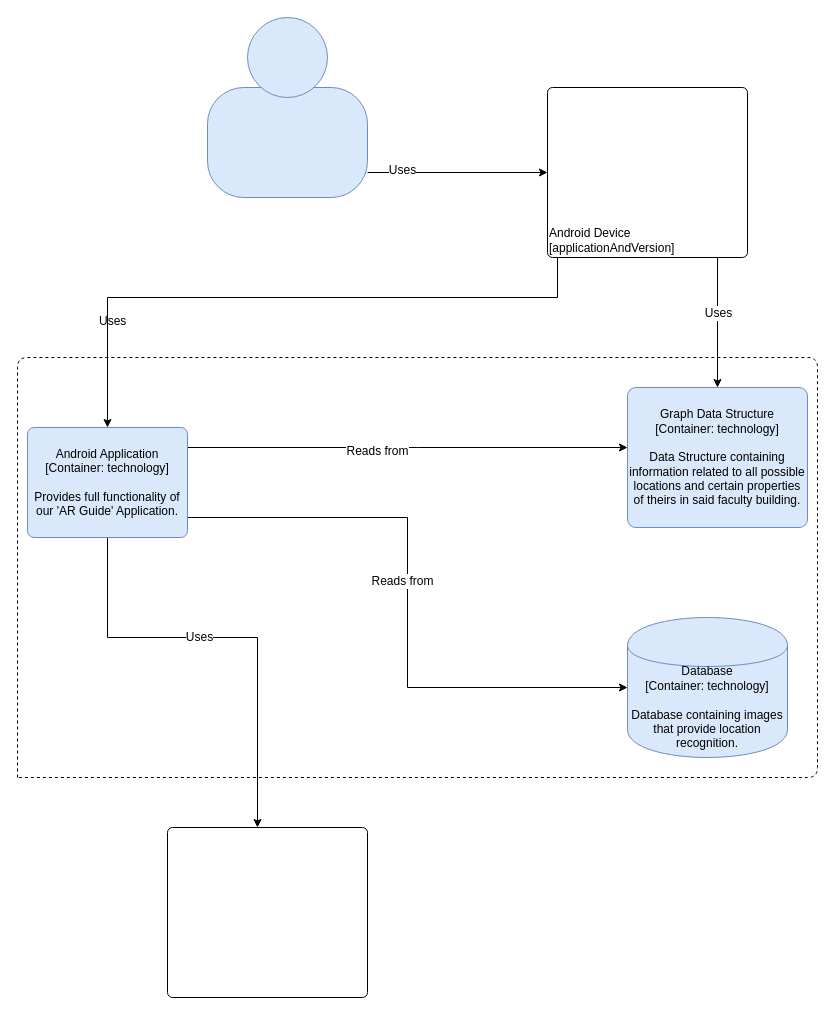
This 836x1015 diagram has some shape labels left out. Here are the shapes that lost their labels. From the top down, the box of each, then its label:
(206, 86, 368, 198): User [Person] Individual utilizing our application.
(166, 826, 368, 998): Faculty Schedule [applicationAndVersion]
